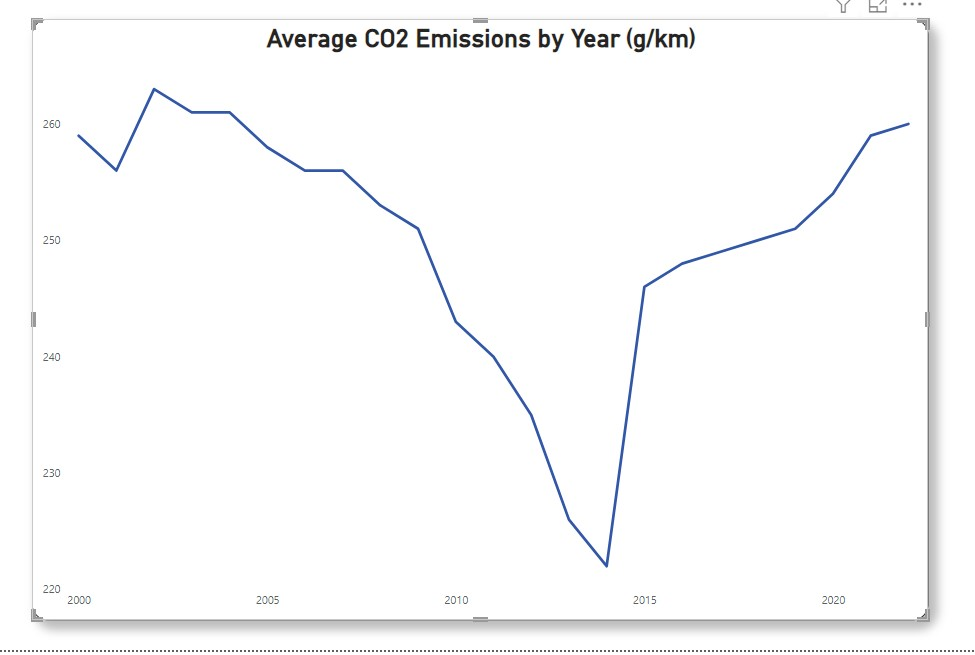

The page's visual inventory and layout, read from the dashboard file:
{"tool":"powerbi","page":{"name":"Avg Co2 Emission","canvas":[1280,720],"ordinal":2},"visuals":[{"type":"lineChart","fields":{"Category":["Query3.YEAR"],"Y":["Avg(Query3.Avg_Emissions)"]},"box":[255.2,127.6,760.2,543.4],"z":0}]}

Visuals, with their boxes on the page's 1280x720 design canvas (x1, y1, x2, y2). These are canvas units, not pixel positions in the 975x655 screenshot, which may show the page scaled, cropped or inside an application window:
lineChart - Query3.YEAR x Avg(Query3.Avg_Emissions): bbox(255, 128, 1015, 671)
